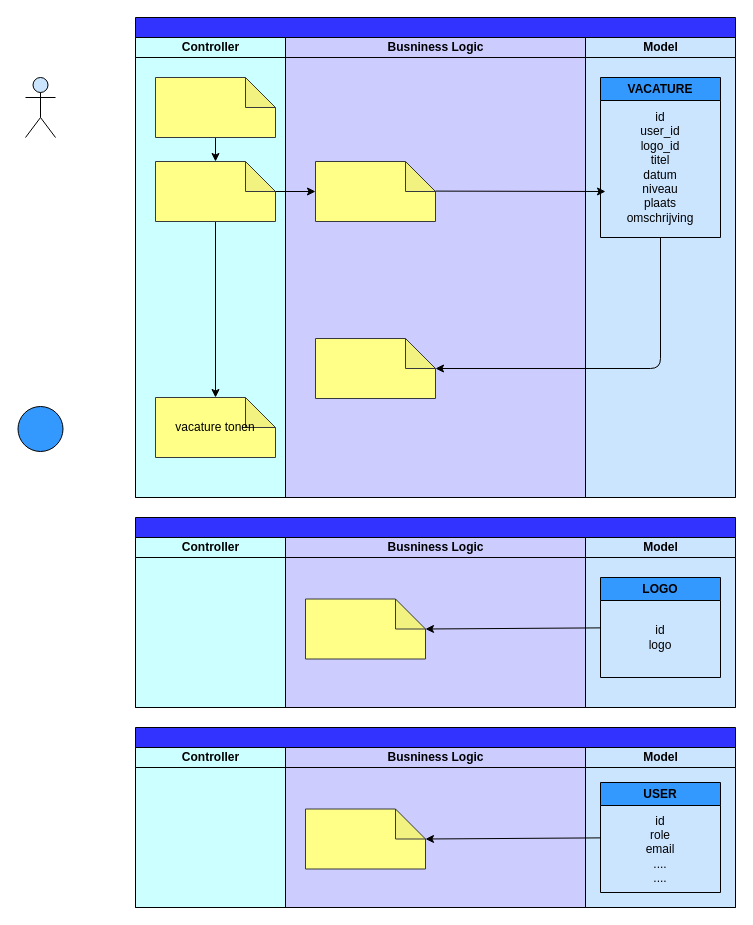
Some shapes in this 753 by 925 pixel diagram are drawn without their labels. Here are the shapes that lost their labels. From the top down, the centre of each, then its label:
At (40,107): "Actor".
At (215,107): "Initialisatie".
At (215,191): "vacature toevoegen/bijwerken".
At (375,191): "toevoegen/bijwerken vacature".
At (375,368): "Selecteer vacature".
At (365,628): "Selecteer logo".
At (365,838): "Selecteer user".
